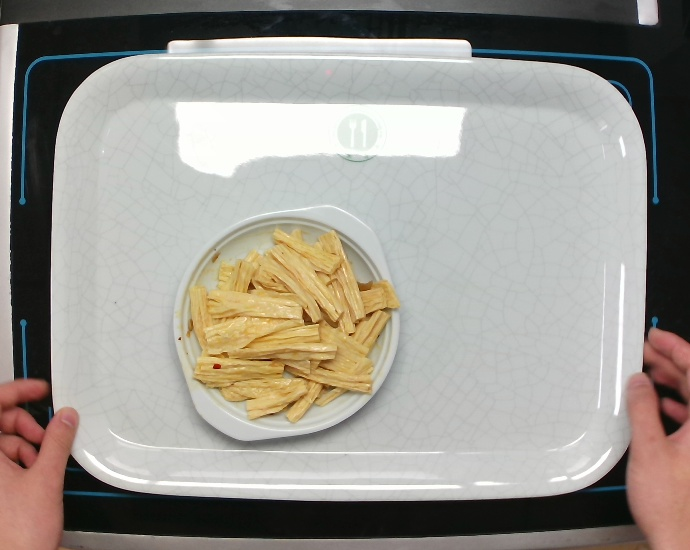JYsf-Shuang_Er_Pan: (163, 198, 407, 452)
